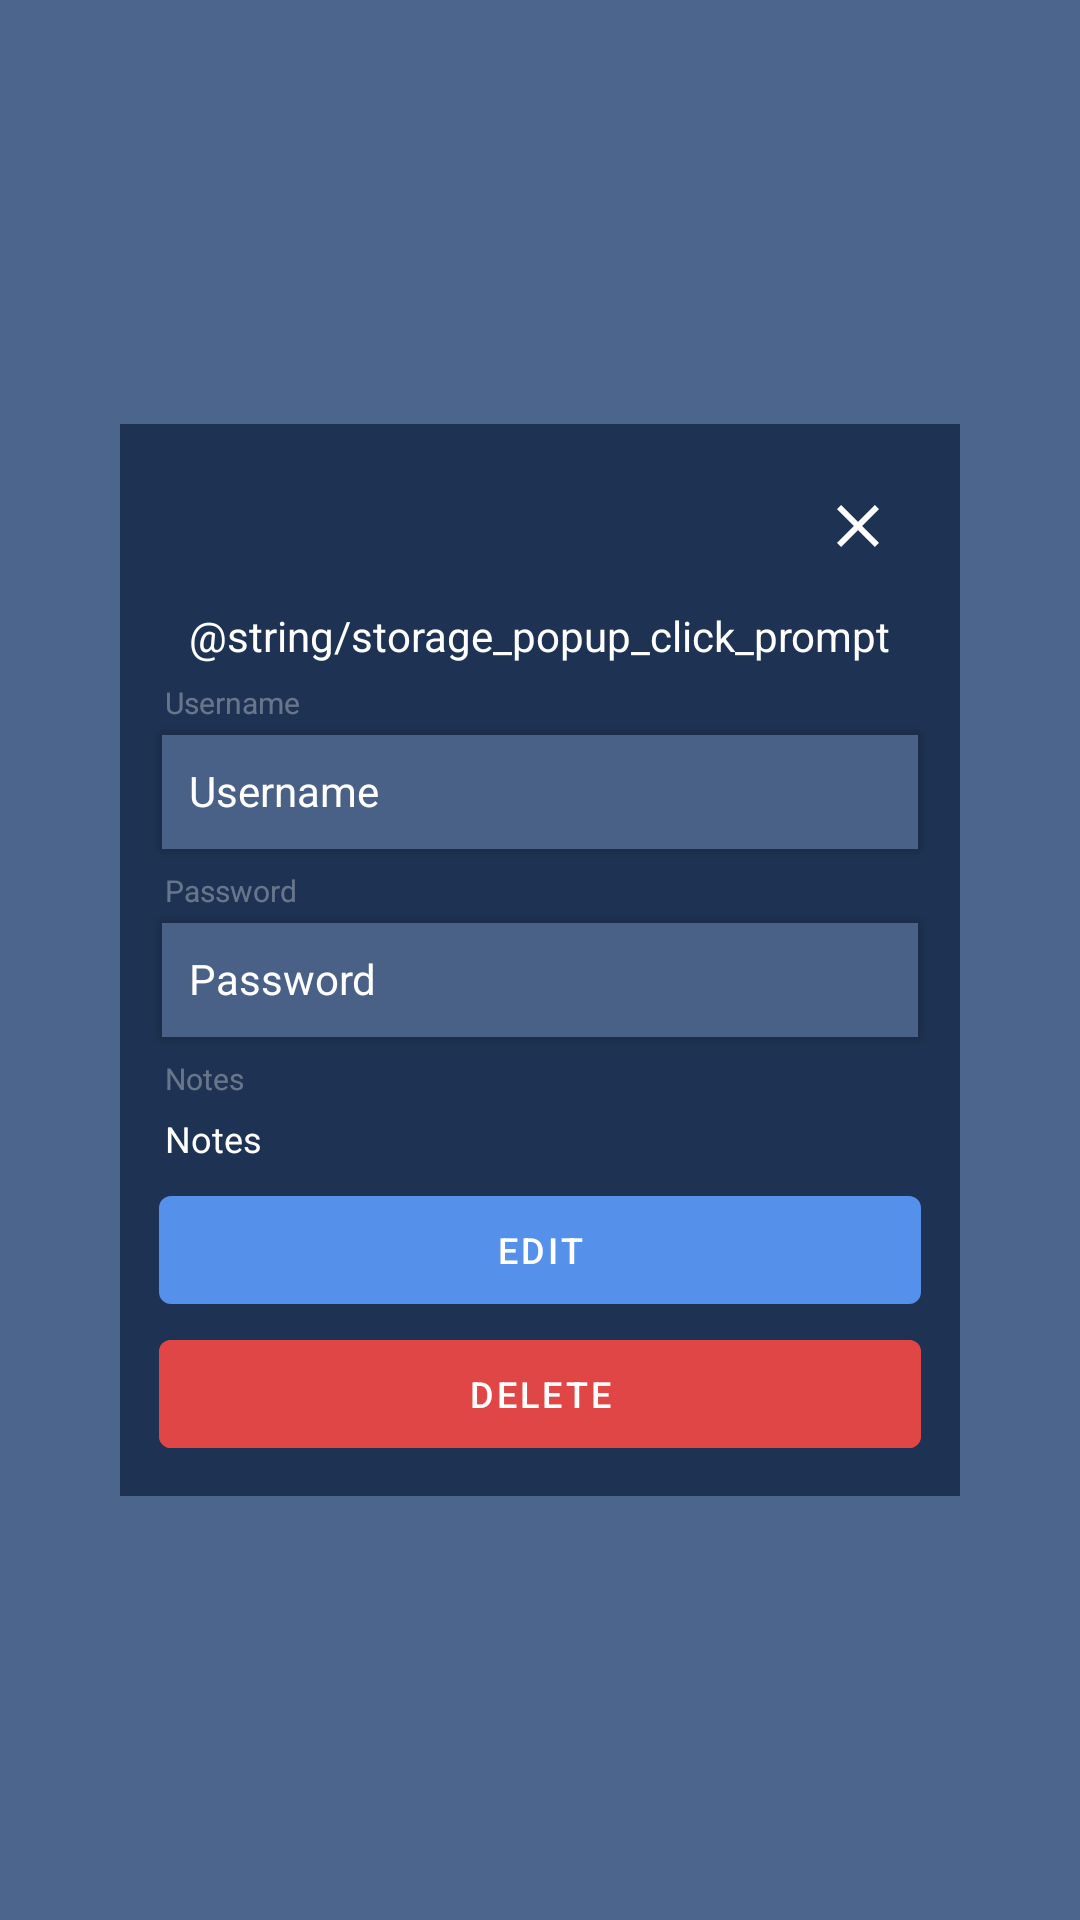

Icon bounding boxes for this 1080*1920 phone screenshot, format region(x1, y1, x2, y2):
Close Popup: region(837, 505, 879, 547)
